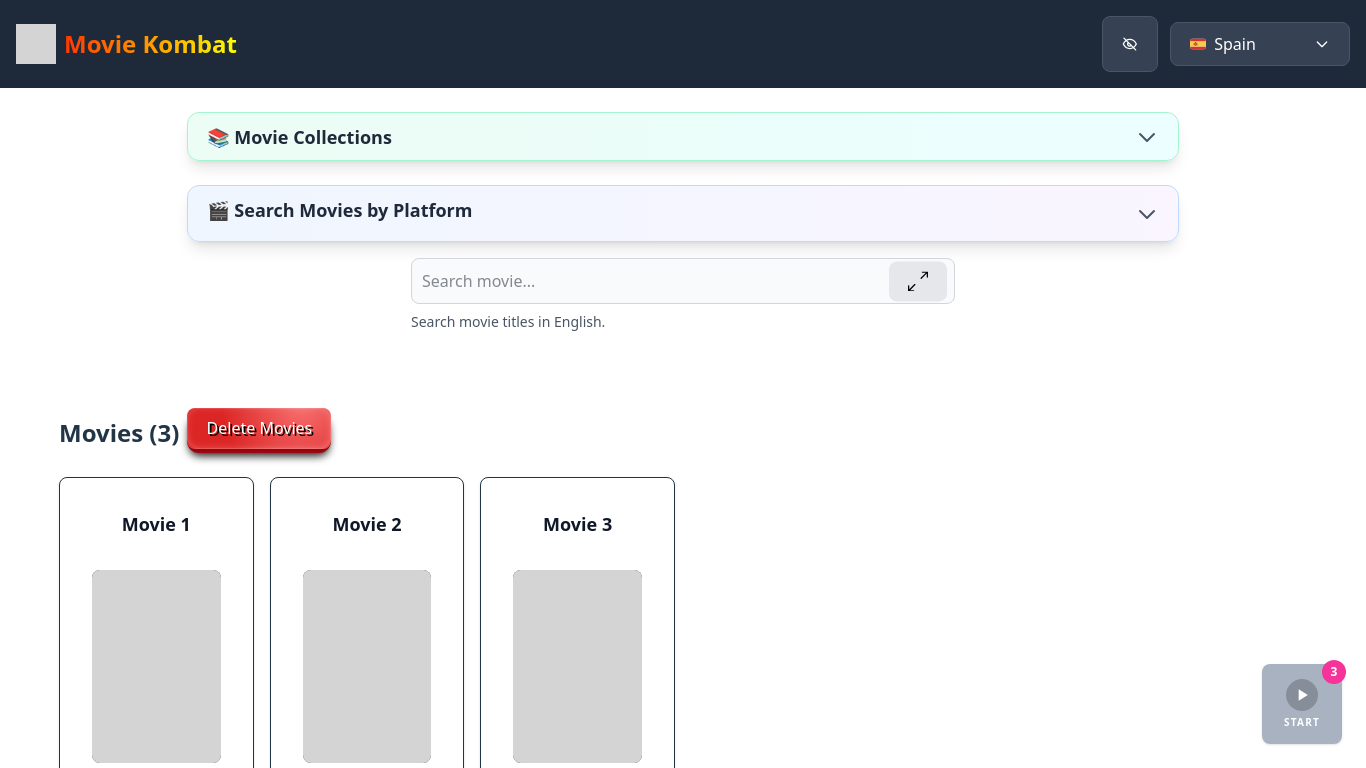
Test case: App kombat start flow › shows a dynamic missing-movies message when there are fewer than 4 movies
The image size is (1366, 768).
Step 1. Click the button with aria-label "Start Kombat" → (1302, 704), box [1262,664,1342,744]
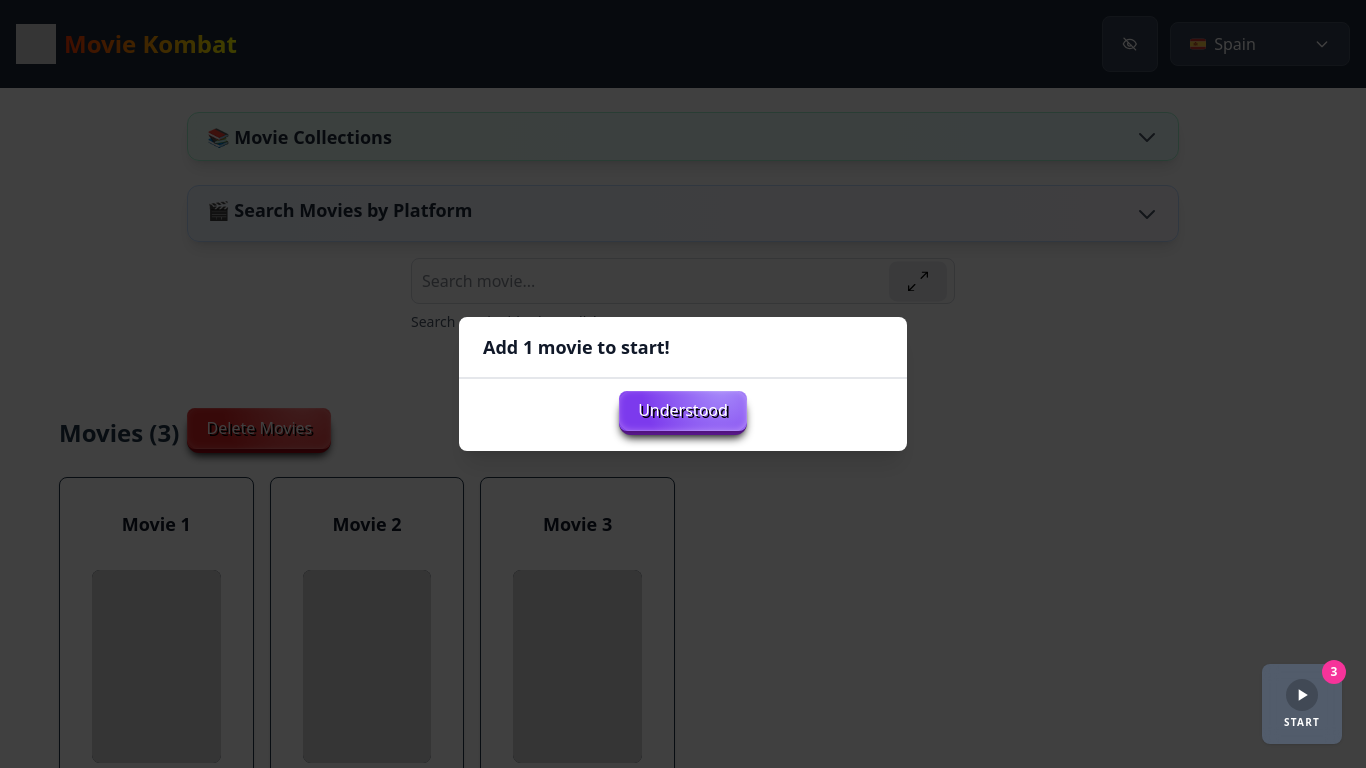
Result: the heading "Add 1 movie to start!" is shown at [483,335,670,359]
